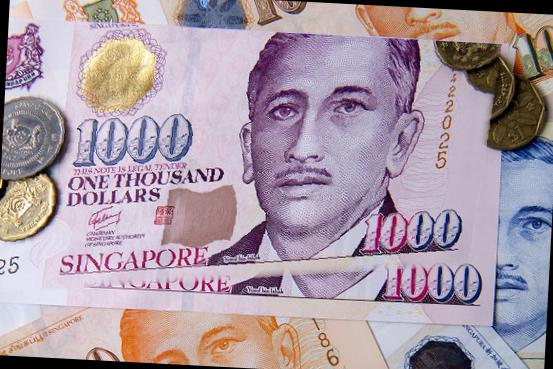1000SingaporeDollar: (0, 18, 507, 322)
